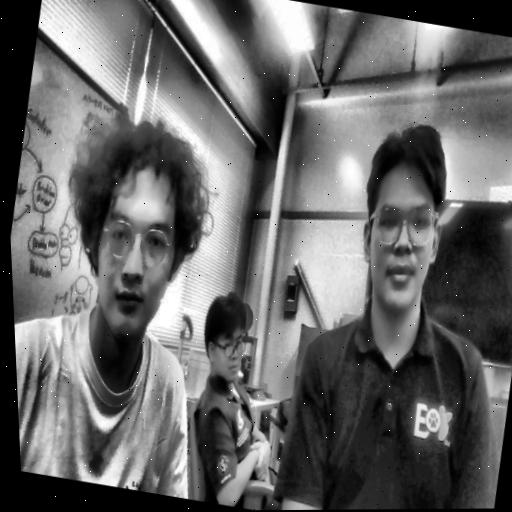Daifuku: (41, 108, 226, 348)
